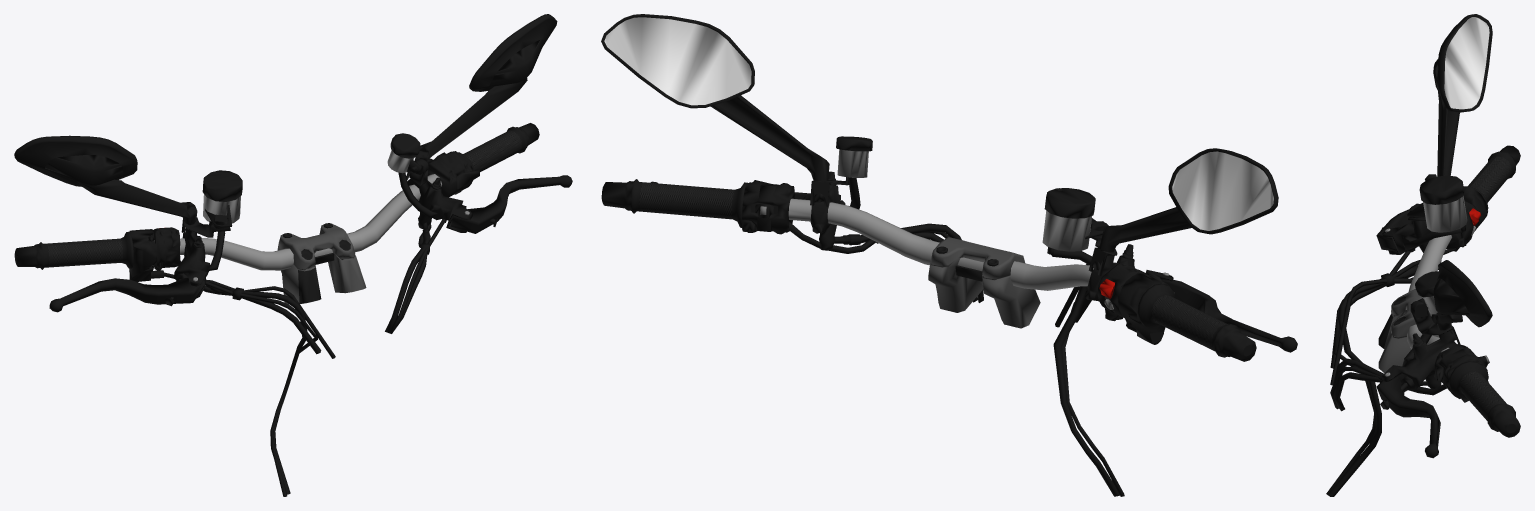
The model's file is Handlebar_Long.glb.
The picture shows the model from 3 angles, left to right: view 1: azimuth 30°, elevation 25°; view 2: azimuth 150°, elevation 25°; view 3: azimuth 270°, elevation 25°; orthographic projection. The views are drawn at different scales.
Parts seen in each view (by area): view 1: Long_HighBar; view 2: Long_HighBar; view 3: Long_HighBar.
Boxes of the visible parts, <box> form: Long_HighBar: <box>14,14,572,496</box>; Long_HighBar: <box>601,14,1297,496</box>; Long_HighBar: <box>1326,14,1520,496</box>.
Bounding box in the file's own units: 0.8847 × 0.5546 × 0.2532.
7 materials, 1 textured.
